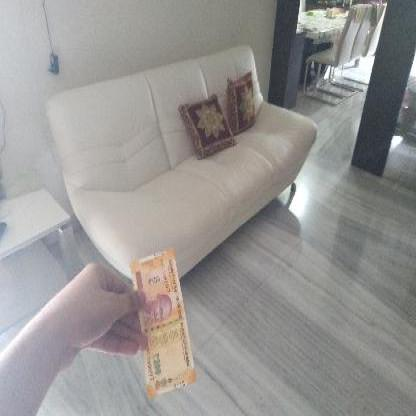New200Front: (130, 263, 191, 389)
